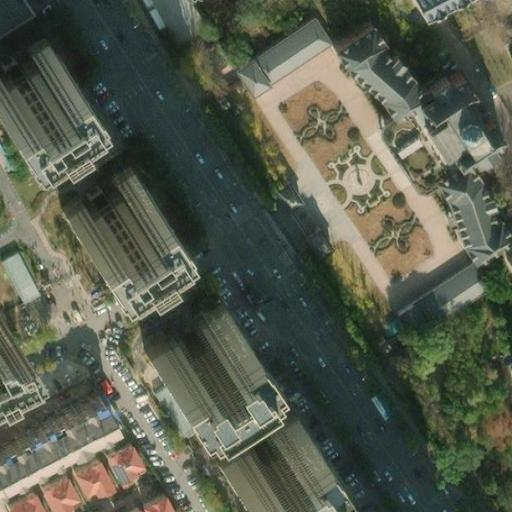building: (332, 19, 424, 126), (39, 68, 120, 177), (132, 294, 232, 380), (204, 398, 304, 484), (413, 77, 499, 173), (225, 13, 323, 91), (429, 166, 509, 258), (52, 163, 143, 243), (387, 257, 481, 334), (215, 326, 279, 417), (0, 29, 62, 105), (66, 454, 109, 496), (33, 471, 76, 512), (97, 440, 136, 485), (387, 133, 414, 155)
